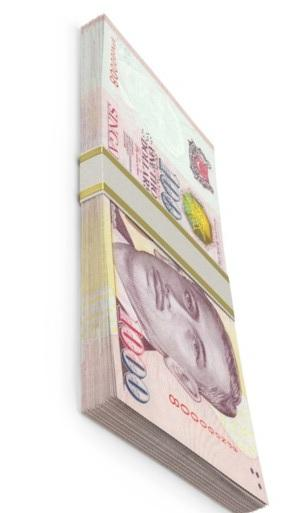1000SingaporeDollar: (105, 30, 265, 491)
